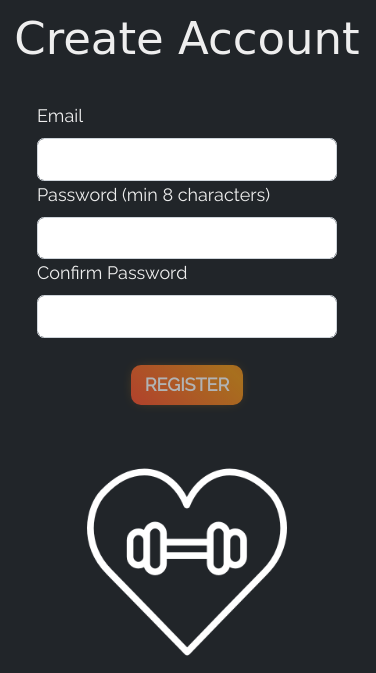
Scenario: UserRegistration component › has enabled submit button with a valid email, password, and matching password-confirm field filled in
Type "valid@test.com" into the field labelled "Email" at (187, 159), box [37, 138, 337, 180]
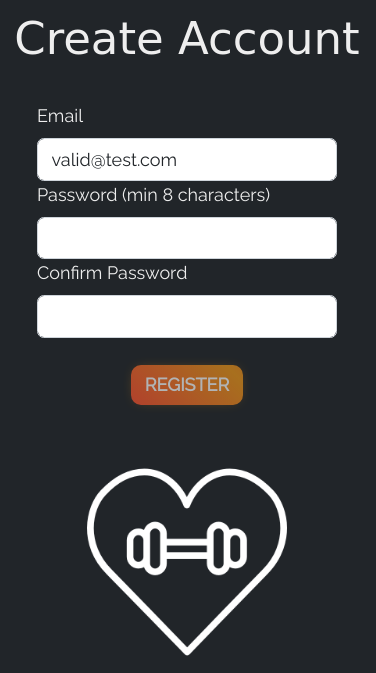
Type "Password1234567890" into the password field labelled "Password (min 8 characters)" at (187, 238), box [37, 216, 337, 259]
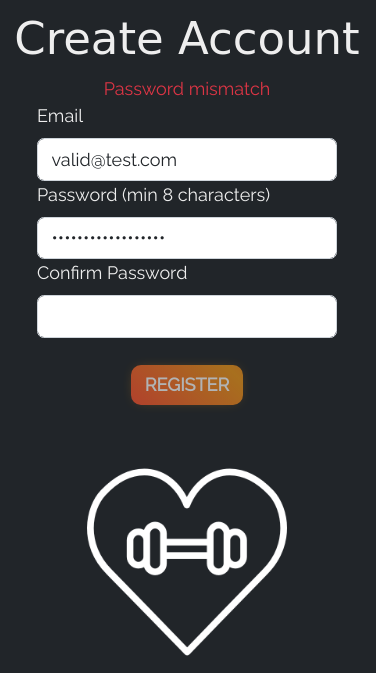
Type "Password1234567890" into the password field labelled "Confirm Password" at (187, 316), box [37, 295, 337, 338]
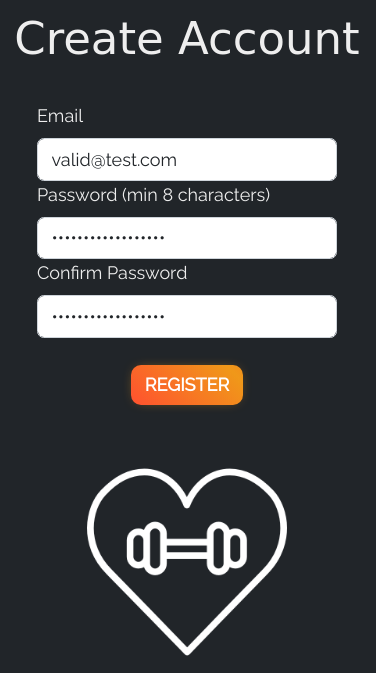
Now the button "Register" is enabled, box [131, 364, 243, 405]
